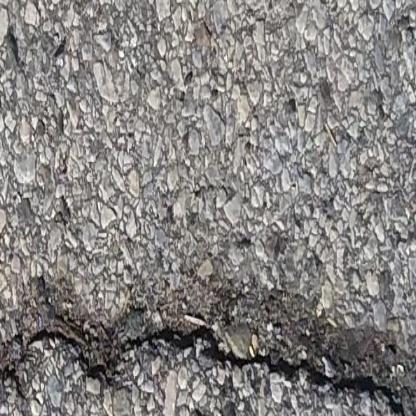Cracks: (0, 278, 416, 416)
